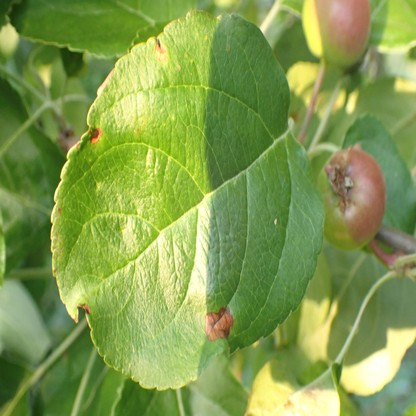frogeye_leaf_spot: (204, 307, 234, 341), (155, 42, 169, 61), (90, 128, 101, 142), (78, 303, 90, 314)
